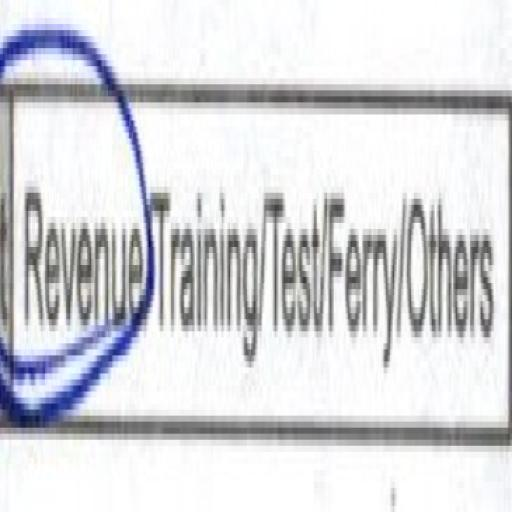check: (0, 0, 153, 475)
